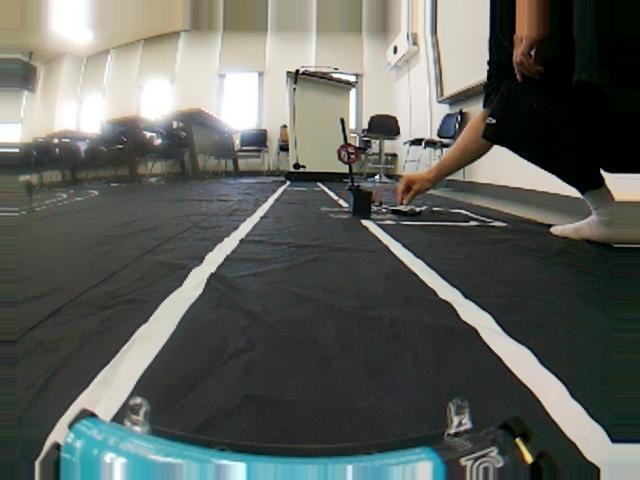sign_stop: (335, 143, 364, 164)
straight: (2, 224, 640, 480)
